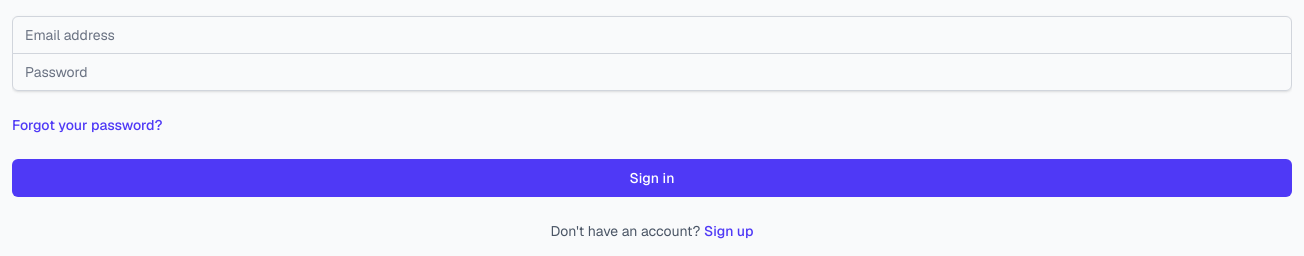
Test case: LoginForm › shows loading state while signing in
Type "test@example.com" into the field with placeholder "Email address" at (652, 35), box x1=12 y1=16 x2=1292 y2=54
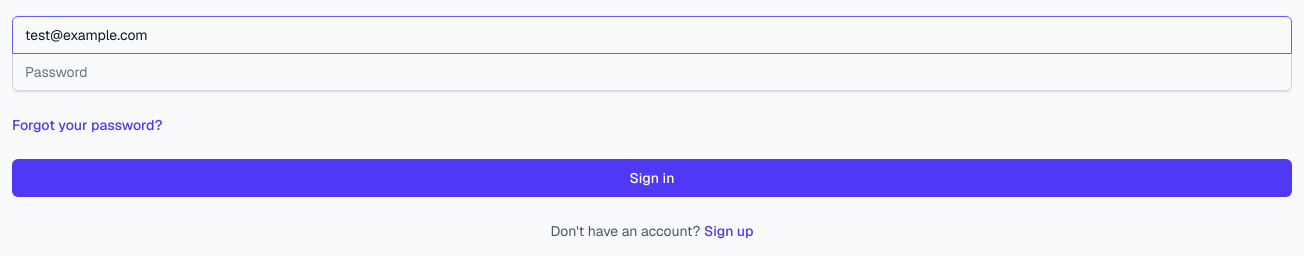
Type "password123" into the password field with placeholder "Password" at (652, 72), box x1=12 y1=53 x2=1292 y2=91
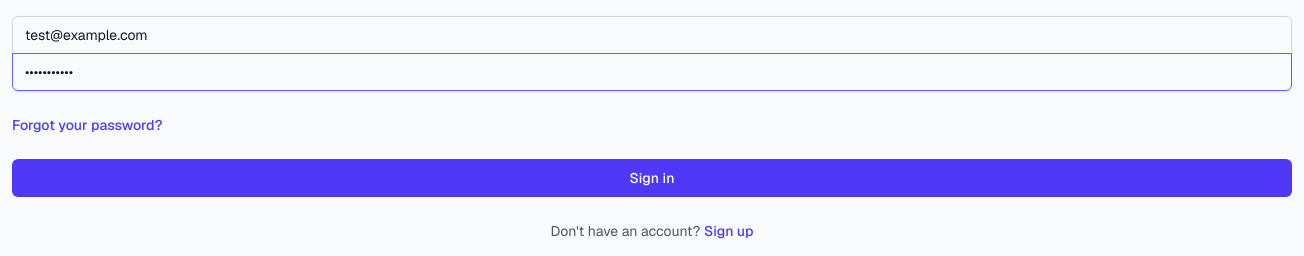
Click the button "Sign in" at (652, 178), box x1=12 y1=159 x2=1292 y2=197
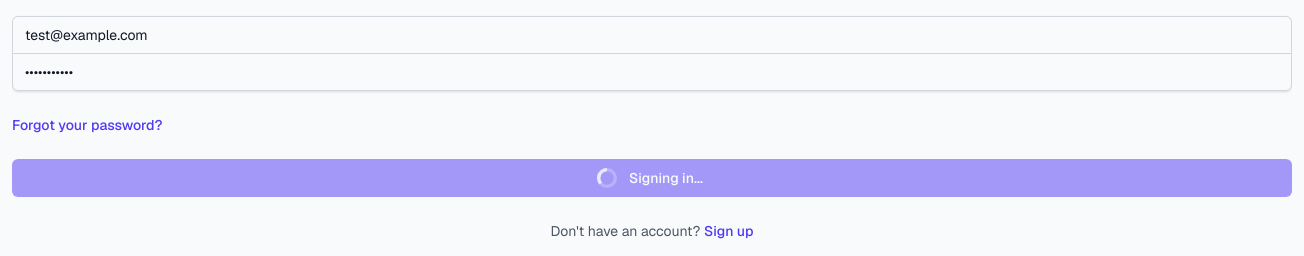
expect the text "Signing in..." is shown: met, box x1=601 y1=168 x2=703 y2=188
